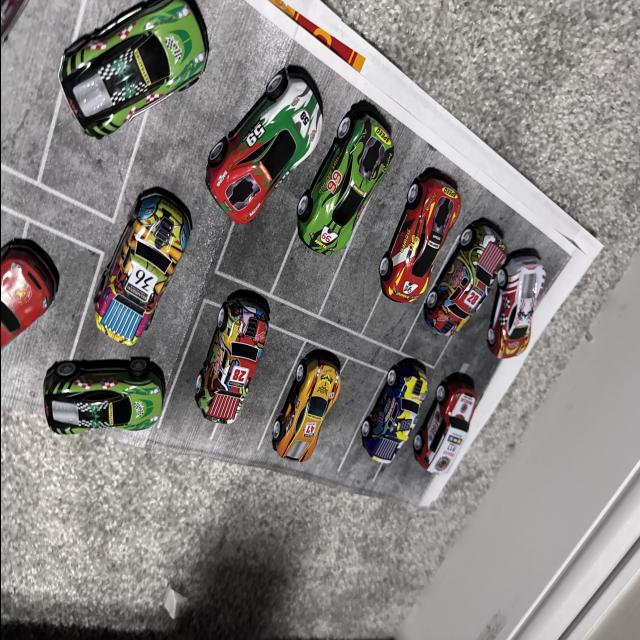Car: (188, 266, 336, 612), (31, 346, 182, 570), (206, 34, 352, 236), (70, 180, 204, 360), (56, 0, 205, 142), (375, 150, 465, 326), (197, 287, 289, 435), (312, 105, 394, 264), (366, 341, 432, 494), (0, 205, 53, 394), (422, 224, 504, 338), (274, 349, 339, 463), (495, 252, 553, 374), (412, 374, 478, 472)
